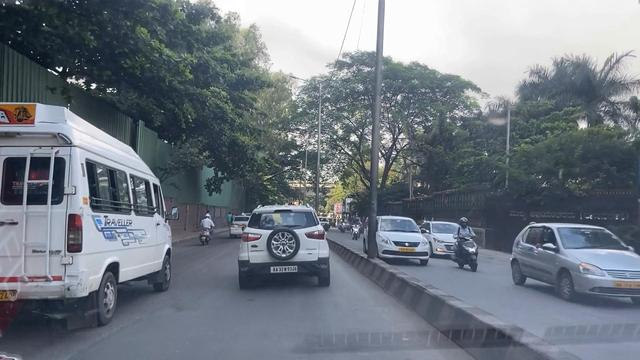HMV: (1, 102, 172, 329)
LMV: (236, 208, 335, 296)
